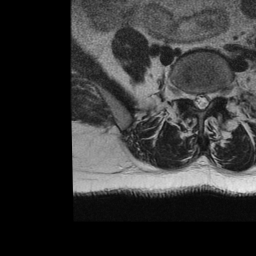CCS_normal: (197, 88, 204, 114)
LFS_normal: (211, 86, 218, 105)
LLS_normal: (204, 87, 211, 110)
RFS_stenosis: (184, 85, 191, 107)
RLS_normal: (191, 87, 197, 111)
